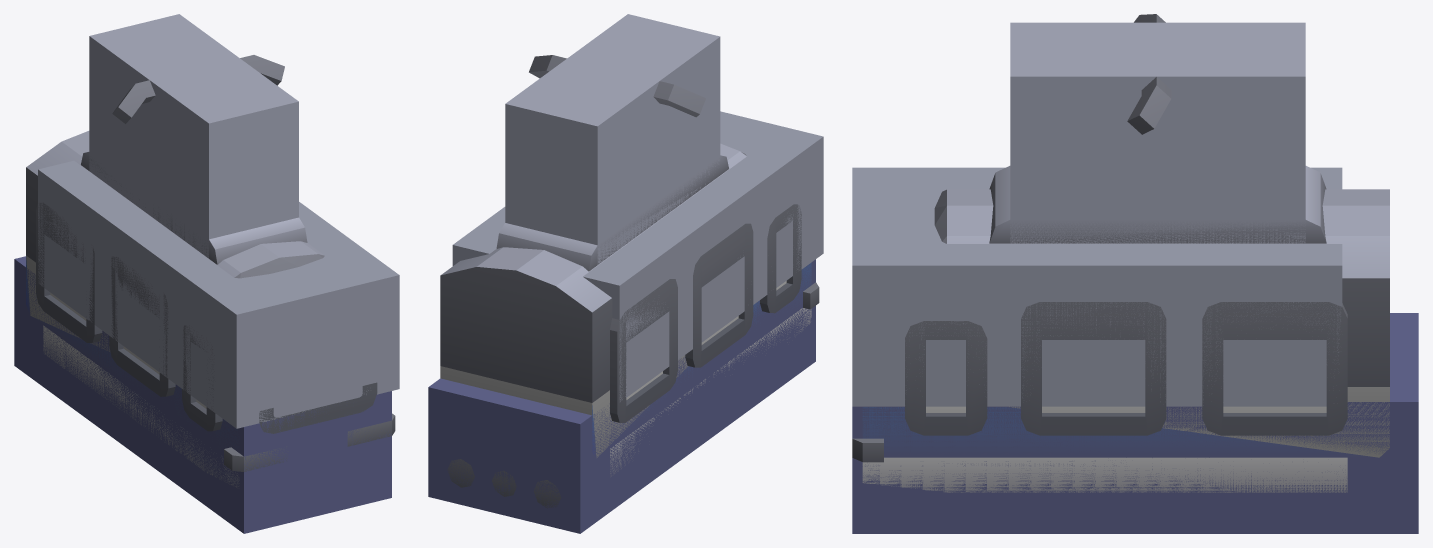
The model's file is tram.modern.glb.
The picture shows the model from 3 angles, left to right: view 1: azimuth 30°, elevation 25°; view 2: azimuth 150°, elevation 25°; view 3: azimuth 270°, elevation 25°; orthographic projection. The views are drawn at different scales.
Parts seen in each view (by area): view 1: far, near; view 2: far, near; view 3: far, near.
Part boxes in pixels (x1=…): far: x1=14, y1=14, x2=399, y2=533; near: x1=26, y1=55, x2=395, y2=487; far: x1=428, y1=14, x2=823, y2=533; near: x1=440, y1=55, x2=819, y2=508; far: x1=852, y1=22, x2=1418, y2=533; near: x1=852, y1=14, x2=1389, y2=492.
Size of the model in its own units: 2.4 by 4.9 by 5.72.
